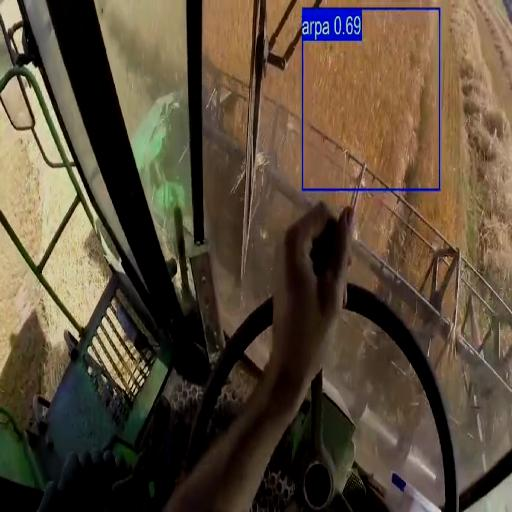arpa: (305, 13, 438, 185), (420, 57, 464, 243), (97, 0, 181, 73), (203, 0, 252, 81), (263, 44, 301, 114), (112, 66, 149, 131)
